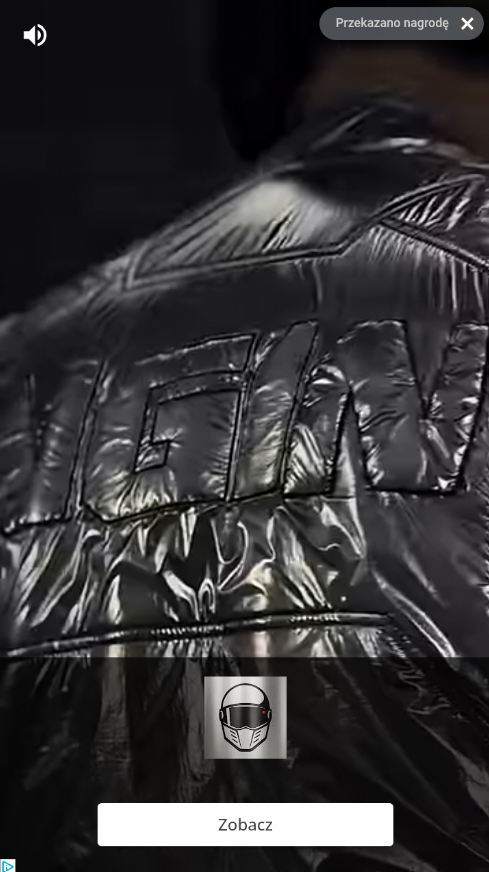close_button: (456, 11, 478, 34)
